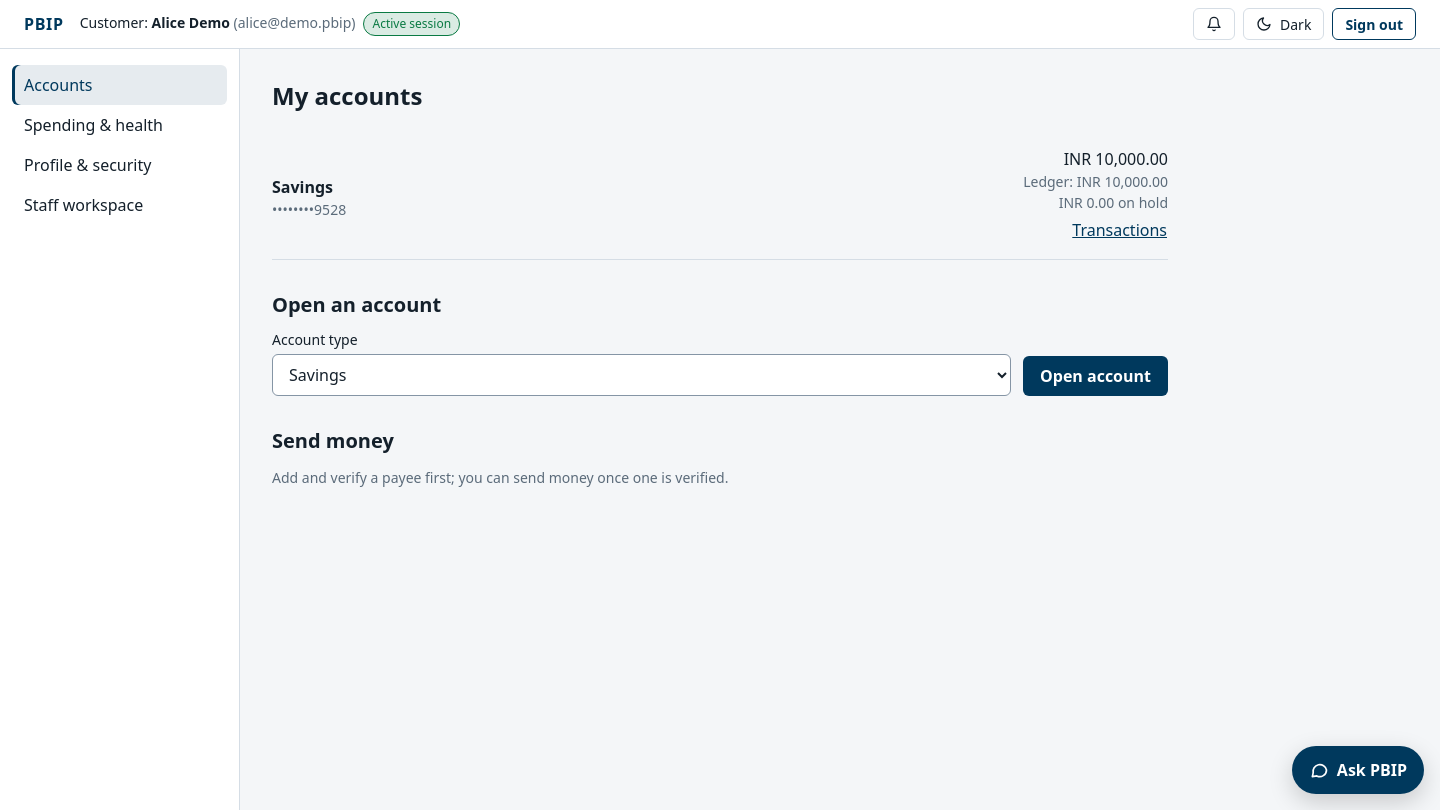
Scenario: routing, roles and the application shell (ADR-0016) › staff routes › links both areas for a user who is a customer and staff
Step 1. Click the link "Staff workspace" → point(84, 205), box [24, 194, 143, 216]
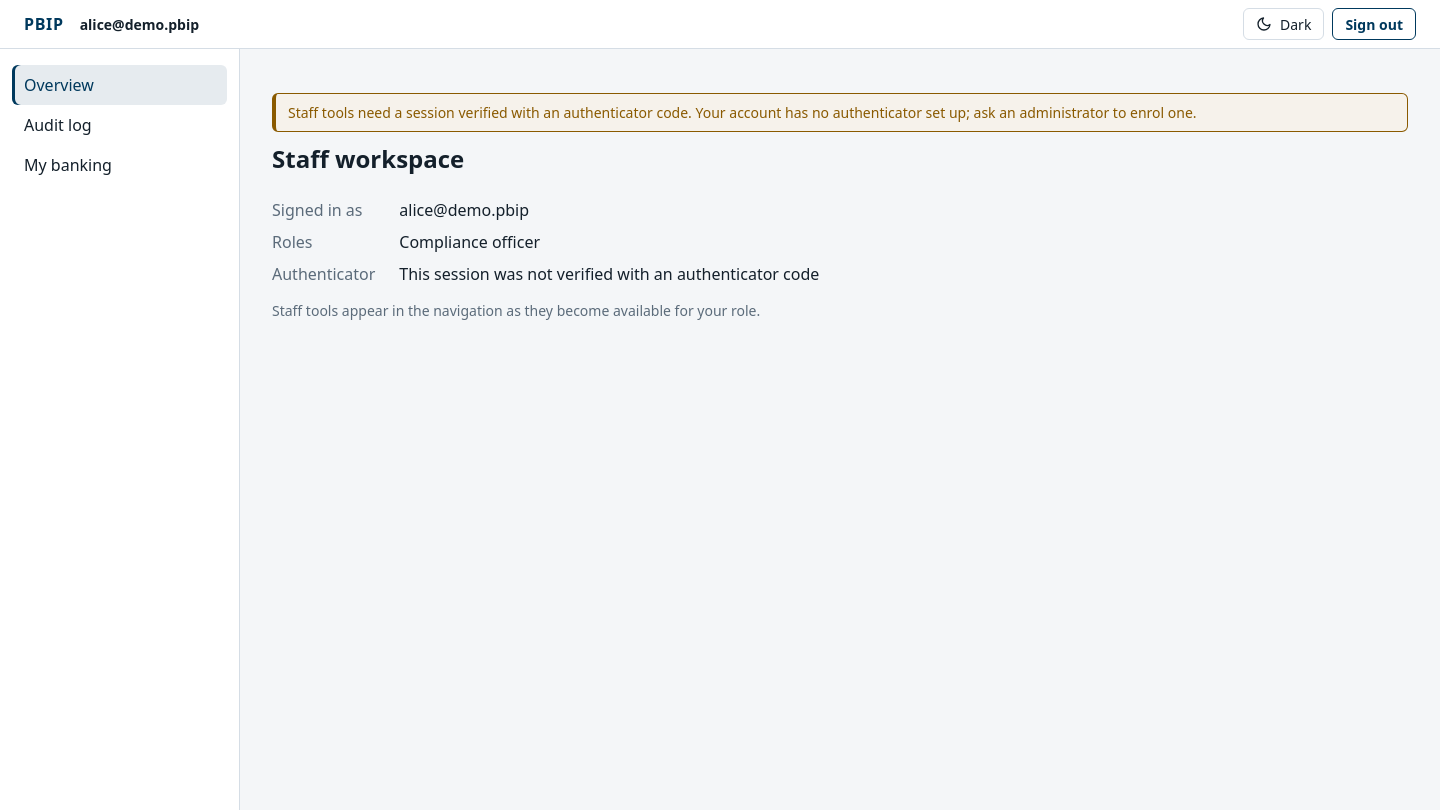
Check: the heading "Staff workspace" is shown, box [272, 144, 464, 174]
